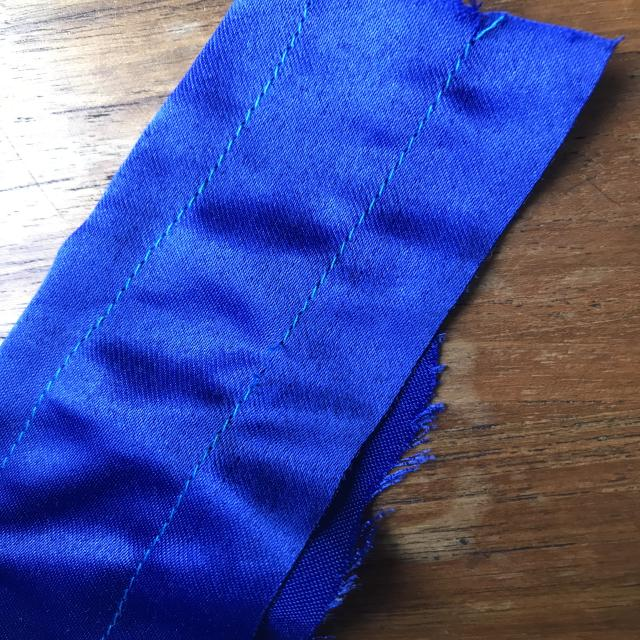broken: (227, 328, 305, 397)
good: (166, 183, 207, 230)
